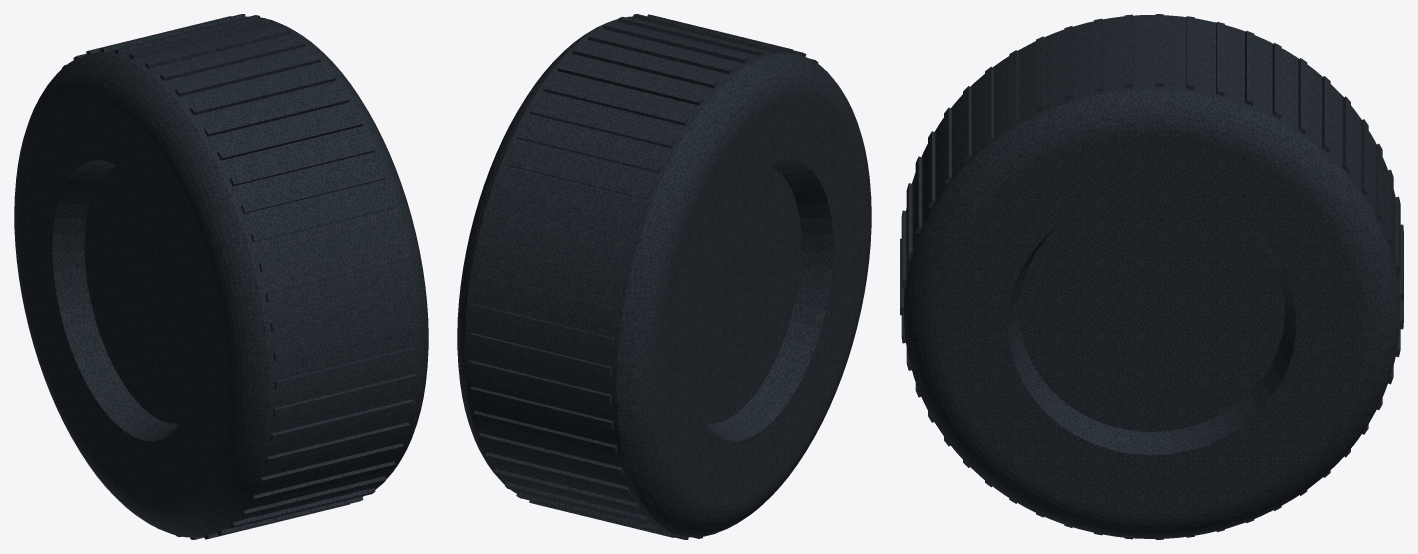
Rendered from RR_Wheel.obj.
3 renders of one model, left to right at view 1: azimuth 30°, elevation 25°; view 2: azimuth 150°, elevation 25°; view 3: azimuth 270°, elevation 25°, orthographic.
Visible parts, largest first — view 1: RR_Wheel_visual; view 2: RR_Wheel_visual; view 3: RR_Wheel_visual.
Boxes of the visible parts, left/top/right/bottom form: RR_Wheel_visual: left=14, top=14, right=428, bottom=539; RR_Wheel_visual: left=457, top=14, right=871, bottom=539; RR_Wheel_visual: left=900, top=14, right=1403, bottom=539.
Bounding box in the file's own units: 0.055 × 0.1231 × 0.1231.
Materials: 1 (1 with a texture image).
